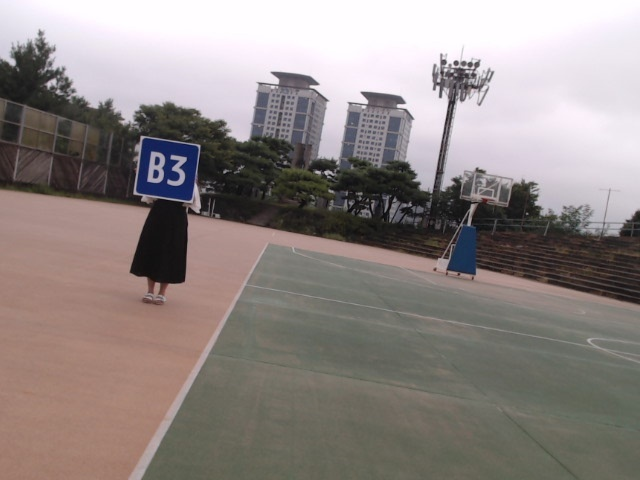delivery_b3: (135, 137, 199, 202)
